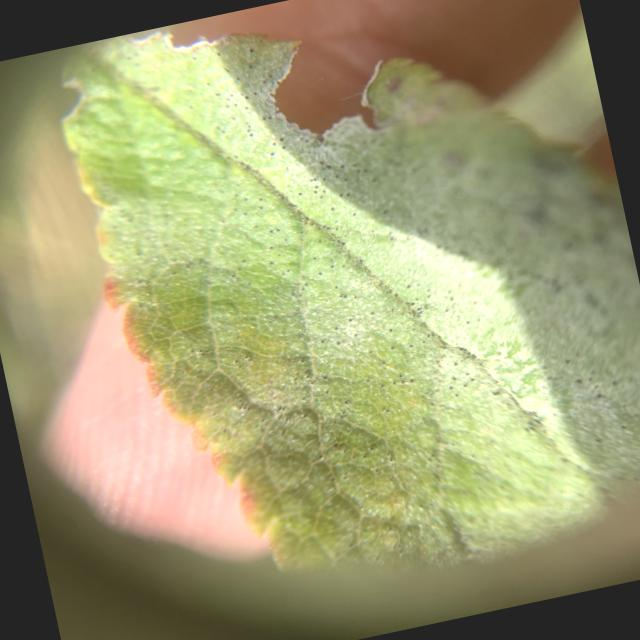powdery_mildew: (65, 33, 640, 568)
